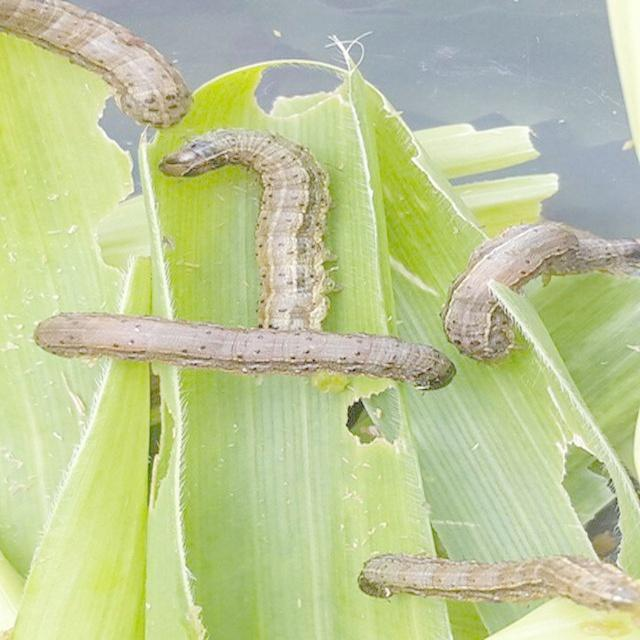worm: (161, 117, 339, 377), (31, 307, 459, 407), (440, 219, 640, 363), (1, 1, 194, 130)
